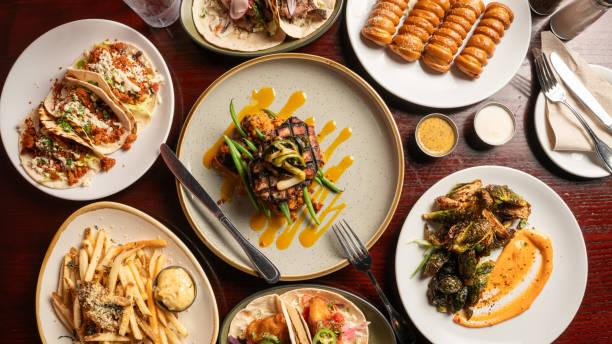Braised Crucian Carp: (176, 53, 397, 280), (394, 164, 587, 343), (1, 18, 175, 203), (34, 201, 216, 344), (349, 0, 529, 111)
